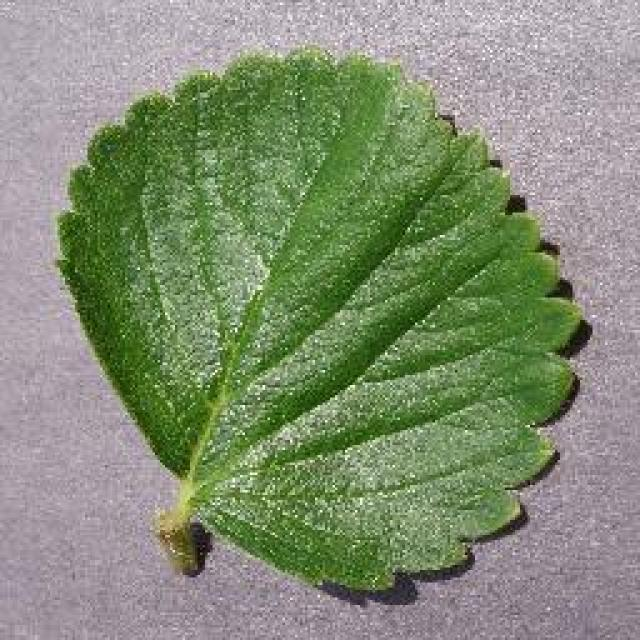Strawberry___healthy: (37, 23, 595, 615)
